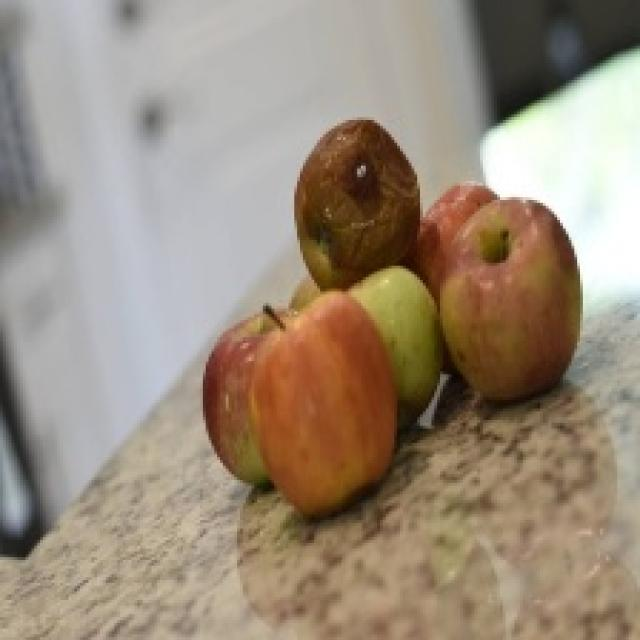rotten_apple: (294, 122, 416, 276)
